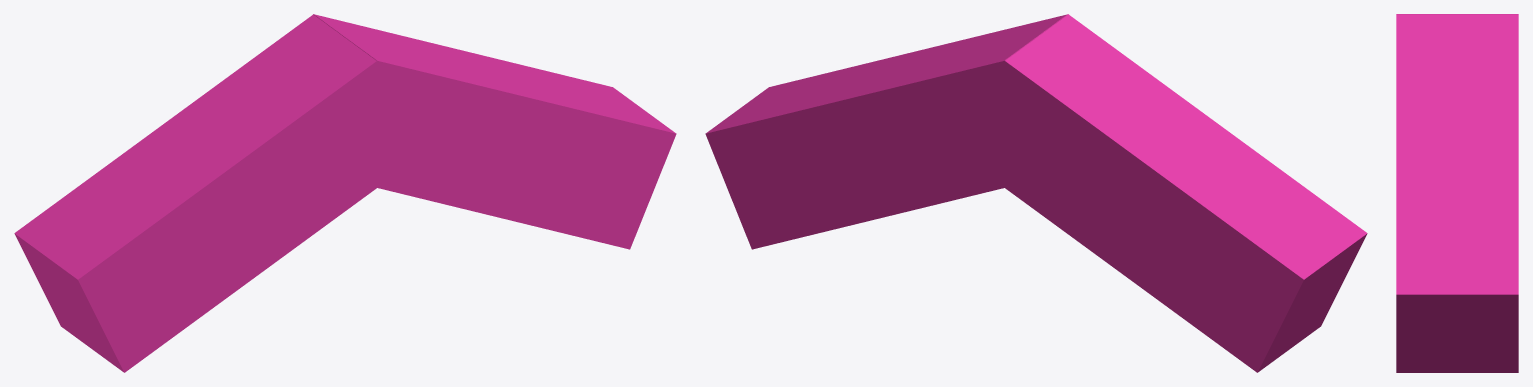
File: slope25.dae
3 views of the same model, side by side, from view 1: azimuth 30°, elevation 25°; view 2: azimuth 150°, elevation 25°; view 3: azimuth 270°, elevation 25° (orthographic). The views are drawn at different scales.
Parts seen in each view (by area): view 1: Cube_020, Cube_021; view 2: Cube_020, Cube_021; view 3: Cube_021, Cube_020.
Boxes of the visible parts, <box> form: Cube_020: <box>14,14,412,372</box>; Cube_021: <box>313,14,676,249</box>; Cube_020: <box>958,14,1367,372</box>; Cube_021: <box>705,14,1068,249</box>; Cube_021: <box>1396,14,1518,372</box>; Cube_020: <box>1396,14,1518,14</box>.
Size of the model in its own units: 10.87 by 2 by 4.35.
